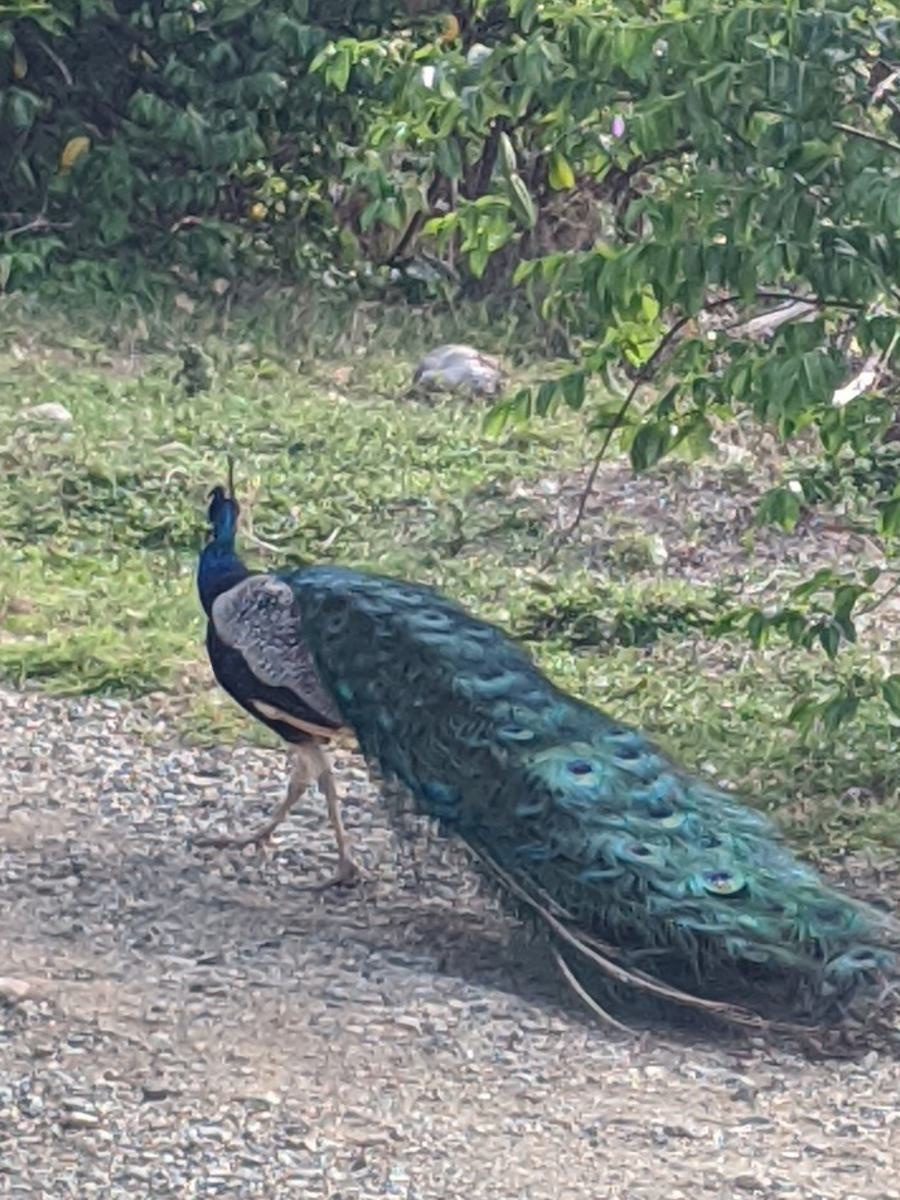peacock: (166, 462, 859, 1056)
